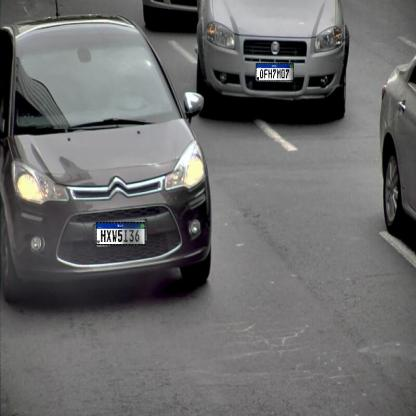PlacaM: (96, 222, 146, 245), (256, 63, 294, 81)
